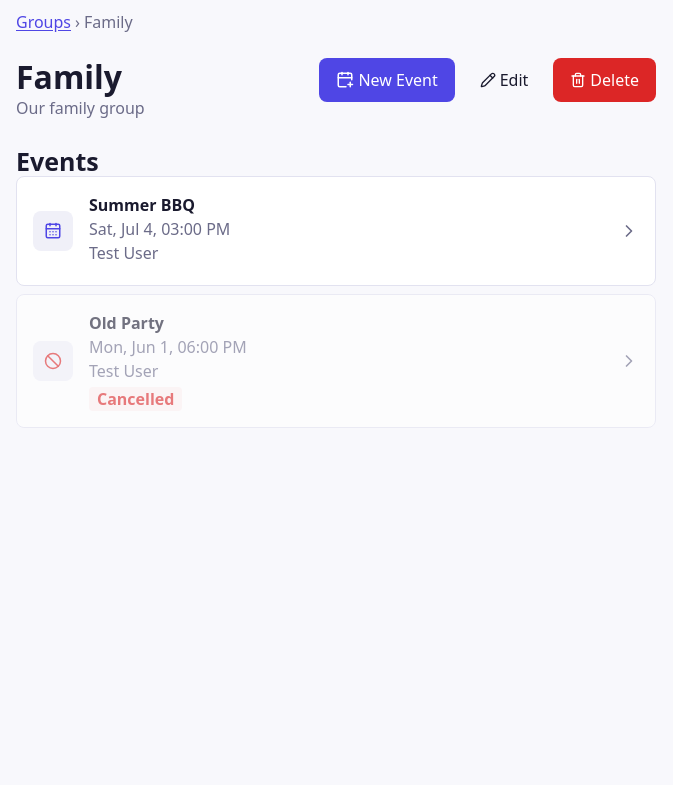
Scenario: GroupDetail › shows an error when saving the edit fails
Click the button with aria-label "edit group": (504, 80) [463,58,545,102]
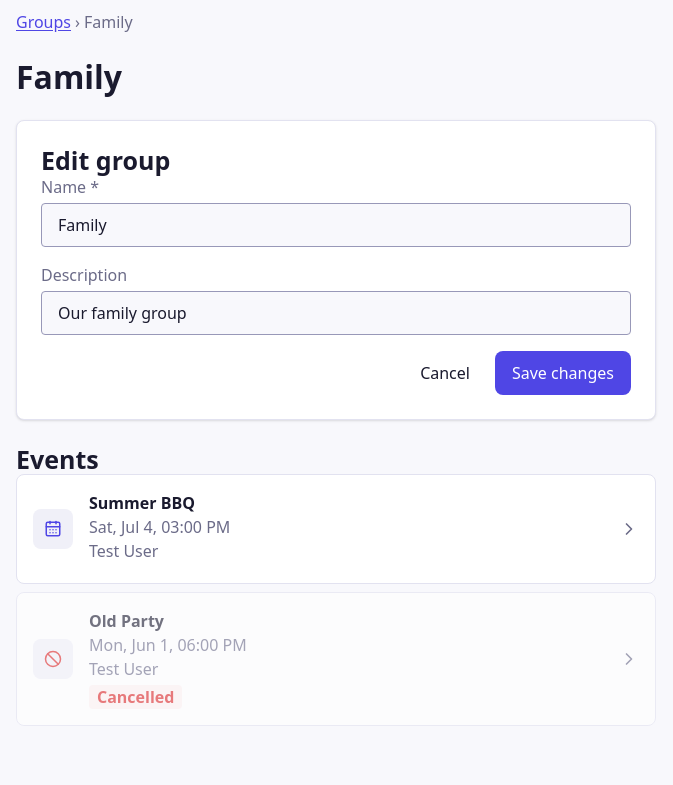
Click the button "Save changes": (563, 373) [495,351,631,395]
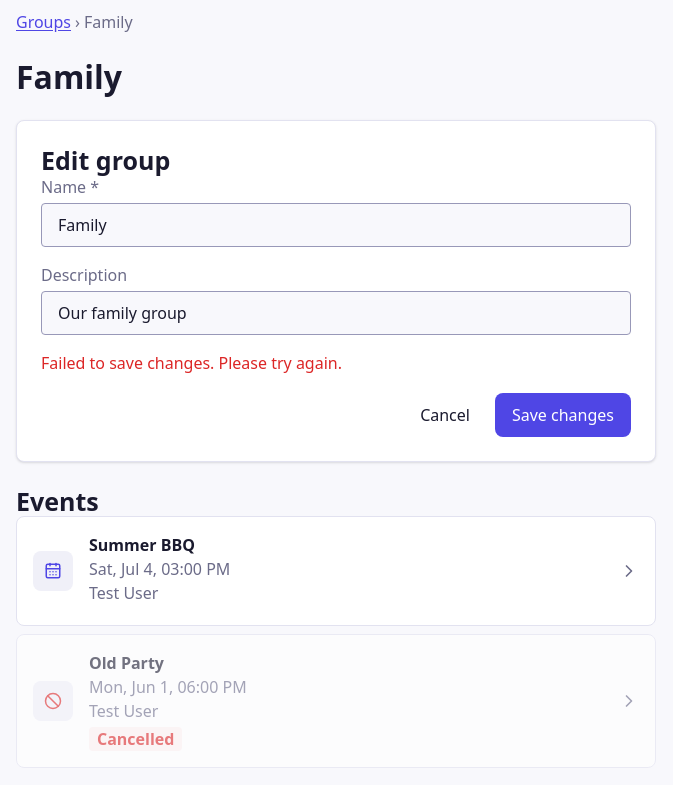
Expected: the message shows "Failed to save changes", [41,352,342,374]
